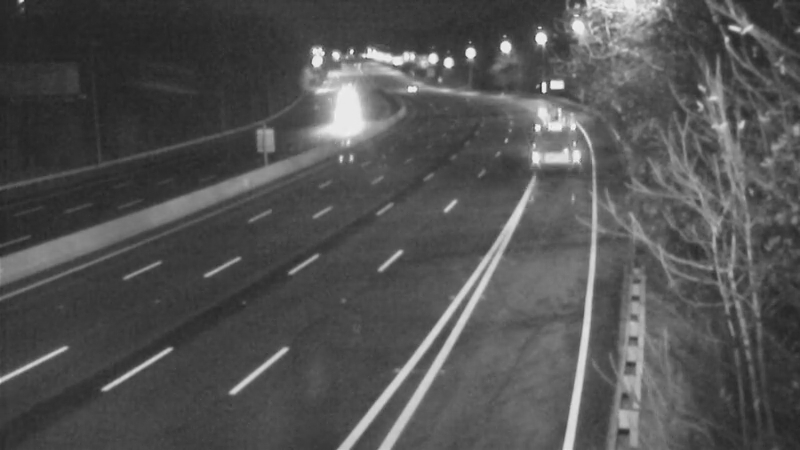vehicle: (388, 63, 438, 113), (531, 97, 581, 147), (312, 100, 362, 150)
